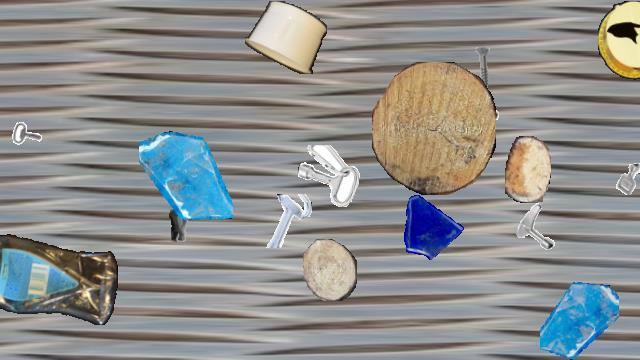glass: (139, 130, 233, 224), (540, 281, 618, 359), (394, 189, 464, 259)
metal: (447, 99, 509, 161), (298, 145, 360, 207), (260, 194, 314, 248), (510, 200, 564, 254), (154, 202, 204, 252), (459, 45, 507, 93), (12, 108, 52, 148), (608, 157, 640, 201)
plastic: (0, 233, 117, 329), (245, 1, 327, 73), (598, 1, 640, 79)
wood: (372, 62, 496, 194), (303, 239, 357, 301), (505, 136, 551, 202)
